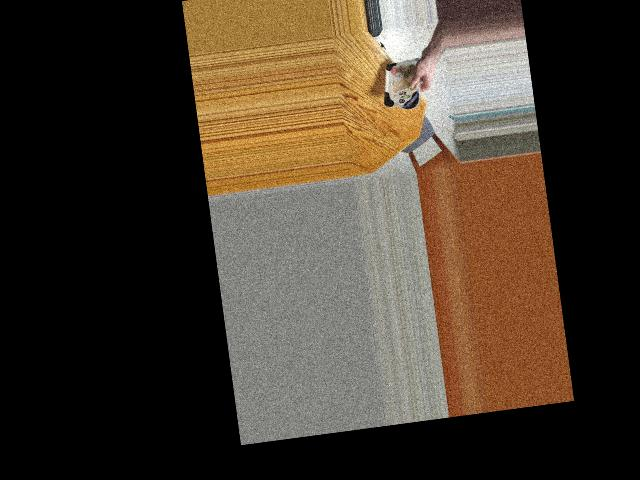cheese: (378, 55, 429, 113)
